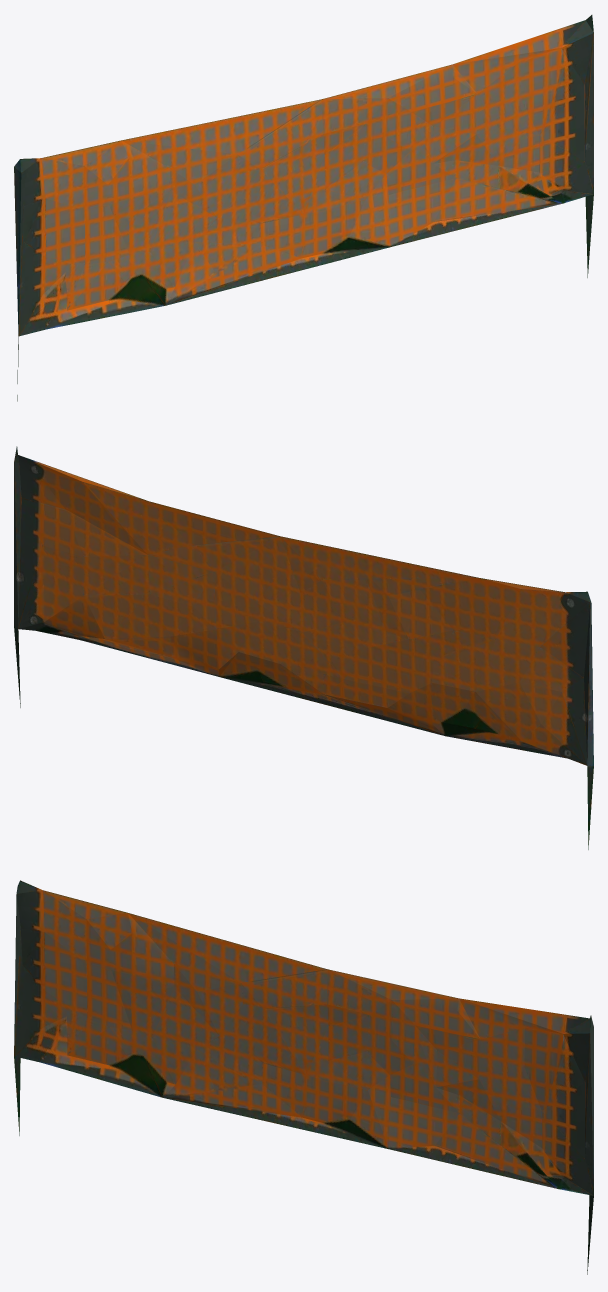
File: bnet_panel.glb
3 views of the same model, one above another, from view 1: azimuth 30°, elevation 25°; view 2: azimuth 150°, elevation 25°; view 3: azimuth 330°, elevation 25° (orthographic).
Size of the model in its own units: 1.88 by 0.8231 by 0.0354.
1 material, 1 textured.
